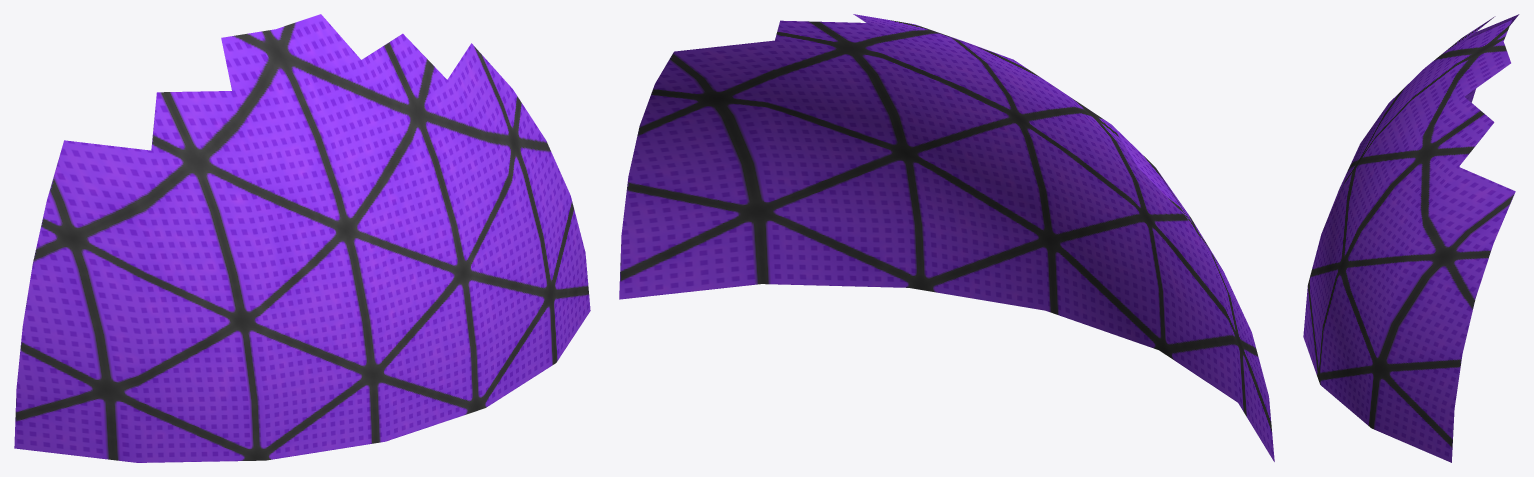
The model's file is ChaosZooCityMapDome.fbx.
The picture shows the model from 3 angles, left to right: view 1: azimuth 30°, elevation 25°; view 2: azimuth 150°, elevation 25°; view 3: azimuth 270°, elevation 25°; orthographic projection. The views are drawn at different scales.
Visible parts, largest first — view 1: pSphere1; view 2: pSphere1; view 3: pSphere1.
Part boxes in pixels (bbox=[...]): pSphere1: bbox=[14, 14, 590, 462]; pSphere1: bbox=[619, 14, 1274, 461]; pSphere1: bbox=[1303, 14, 1519, 462].
Size of the model in its own units: 732 by 403 by 267.
